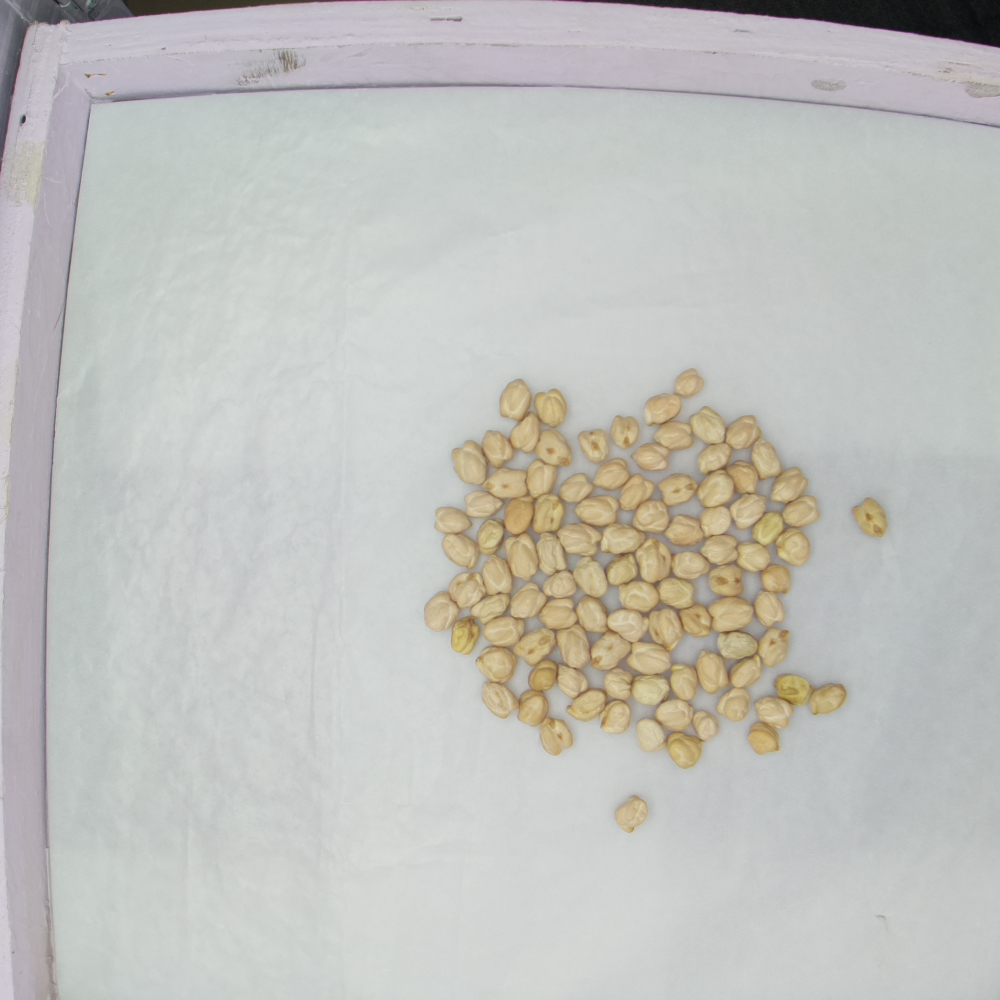chana: (557, 523, 604, 557), (513, 629, 556, 666), (452, 440, 488, 484), (628, 641, 673, 675), (589, 631, 630, 668), (636, 539, 671, 582), (648, 607, 682, 651), (574, 556, 610, 597), (475, 646, 516, 682), (696, 650, 730, 693), (710, 597, 754, 630), (575, 595, 610, 636), (481, 683, 519, 720), (506, 534, 537, 579), (608, 610, 650, 643), (558, 626, 591, 668), (510, 411, 543, 453), (499, 379, 532, 421), (536, 429, 573, 466), (665, 732, 703, 768), (449, 572, 487, 608), (602, 523, 646, 554), (536, 532, 569, 573), (566, 688, 608, 720), (771, 468, 808, 504), (690, 406, 727, 442), (424, 592, 459, 630), (442, 534, 480, 569), (619, 475, 655, 511), (698, 470, 734, 506), (538, 717, 572, 755), (853, 498, 887, 536), (481, 555, 513, 595), (654, 701, 695, 732), (484, 468, 526, 498), (731, 493, 768, 527), (619, 580, 658, 612), (526, 459, 558, 498), (782, 495, 821, 527), (644, 394, 683, 426), (575, 496, 618, 525), (726, 655, 762, 689), (510, 584, 546, 618), (615, 796, 649, 832), (778, 528, 810, 566), (758, 627, 790, 665), (533, 495, 565, 533), (592, 458, 631, 489), (700, 534, 740, 564), (539, 599, 579, 629), (753, 438, 782, 479), (535, 390, 567, 427), (658, 475, 698, 504), (755, 698, 795, 727), (635, 500, 670, 533), (726, 415, 761, 448), (709, 565, 745, 597), (658, 578, 695, 609), (504, 496, 534, 534), (717, 632, 759, 659), (736, 540, 771, 572), (485, 617, 525, 645), (557, 663, 589, 698), (518, 691, 550, 726), (811, 683, 847, 714), (755, 589, 785, 626), (471, 594, 509, 623), (775, 675, 813, 704), (665, 516, 704, 544), (631, 443, 670, 471), (655, 422, 694, 450), (727, 460, 759, 494), (483, 431, 513, 467), (669, 664, 698, 700), (632, 675, 668, 704), (453, 617, 481, 654), (435, 507, 473, 534), (670, 552, 711, 577), (752, 511, 784, 543), (636, 719, 668, 751), (719, 688, 751, 720), (559, 473, 593, 503), (601, 699, 631, 733), (748, 721, 778, 755), (578, 430, 610, 461), (543, 569, 577, 598), (698, 443, 732, 472), (528, 660, 559, 691), (680, 605, 712, 635), (607, 555, 640, 584), (700, 507, 732, 536), (477, 520, 504, 554), (604, 668, 632, 700), (466, 493, 503, 517), (611, 415, 639, 446), (674, 369, 704, 397), (693, 711, 720, 739), (764, 564, 790, 593)
